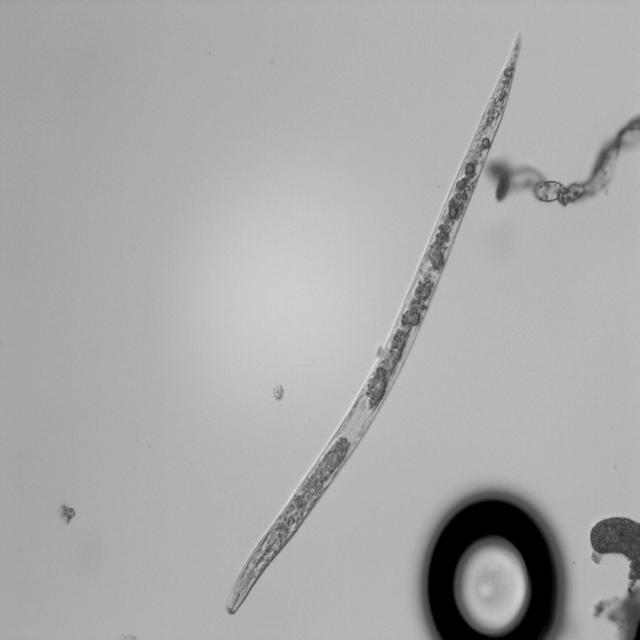Radopholus: (217, 31, 525, 618)
